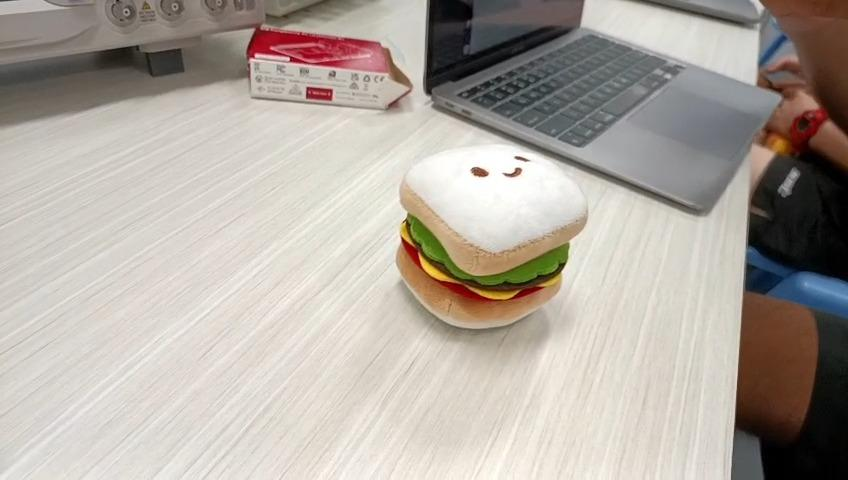objects: (395, 143, 590, 330)
